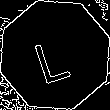L_N: (32, 26, 78, 84)
